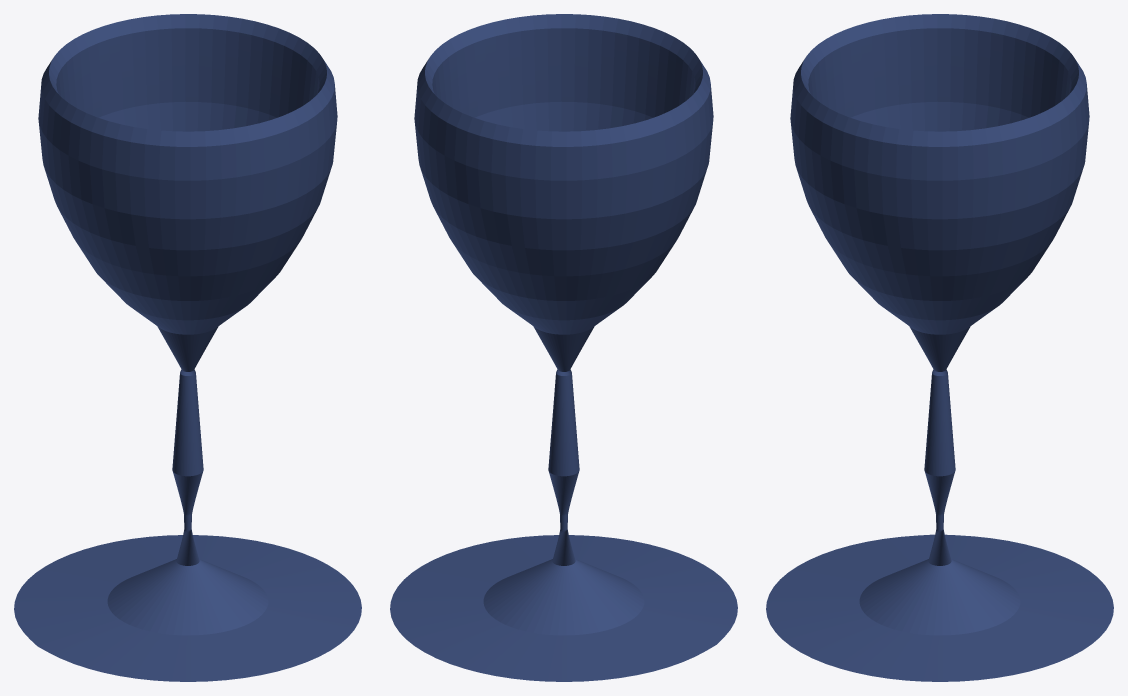
File: Glass.fbx
3 views of the same model, side by side, from view 1: azimuth 30°, elevation 25°; view 2: azimuth 150°, elevation 25°; view 3: azimuth 270°, elevation 25° (orthographic).
Parts seen in each view (by area): view 1: gelas; view 2: gelas; view 3: gelas.
Part boxes in pixels (<box>): gelas: <box>14,14,361,681</box>; gelas: <box>390,14,737,681</box>; gelas: <box>766,14,1113,681</box>.
Size of the model in its own units: 283 by 480 by 282.
